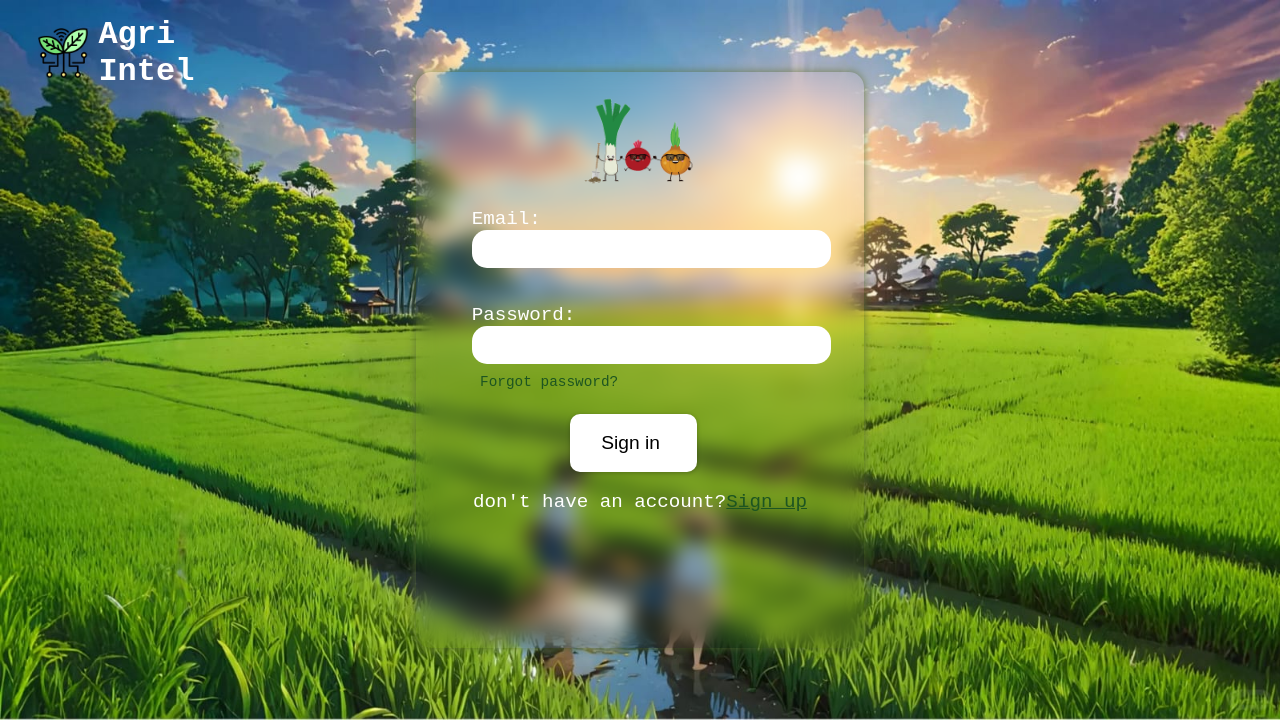
Test case: Login Component › should handle failed login
Type "fail@example.com" into the field labelled "Email:".
click(652, 249); type("fail@example.com")  # box [472,230,831,268]
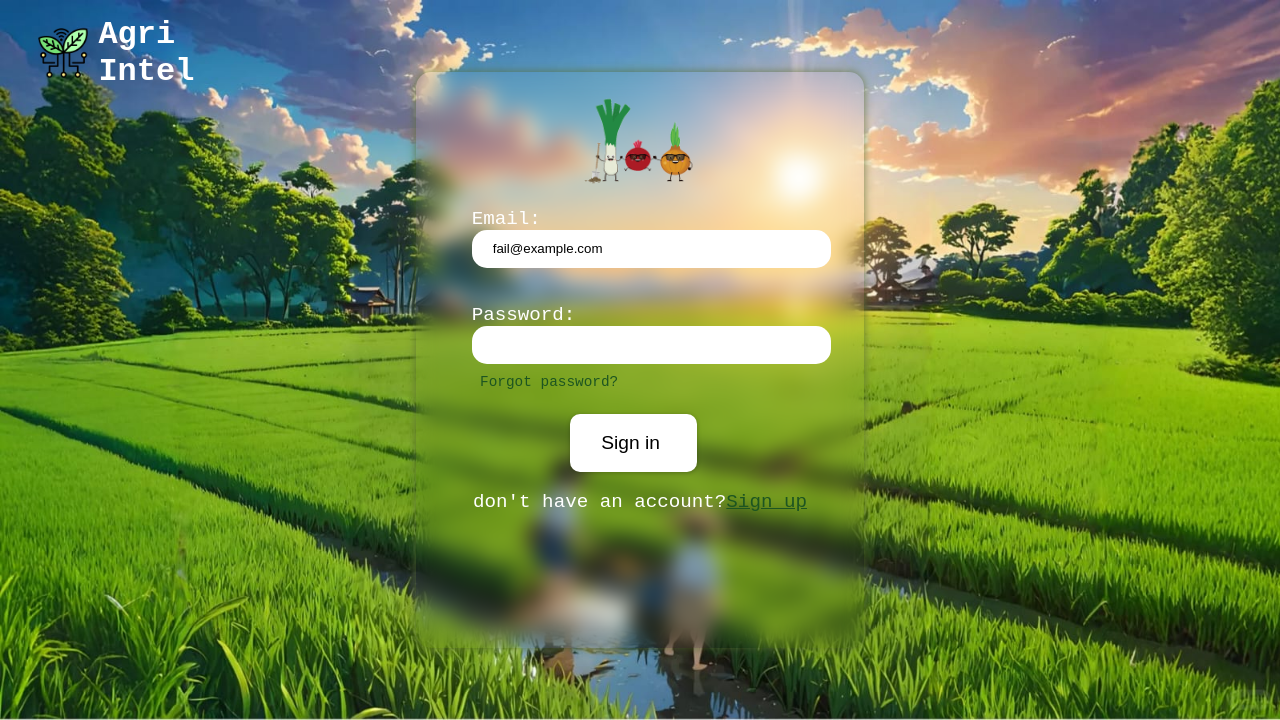
Type "WrongPassword123" into the password field labelled "Password:".
click(652, 345); type("WrongPassword123")  # box [472,326,831,364]
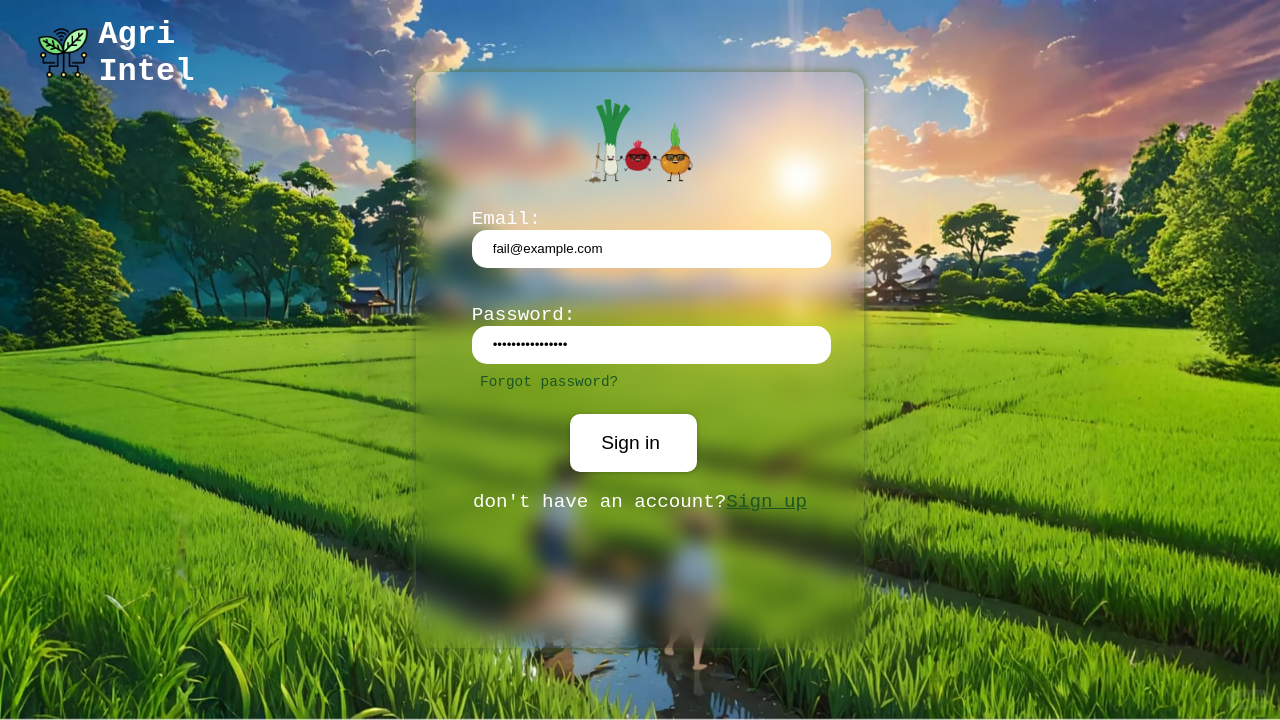
Click the button "Sign in".
click(634, 443)  # box [570,414,697,472]
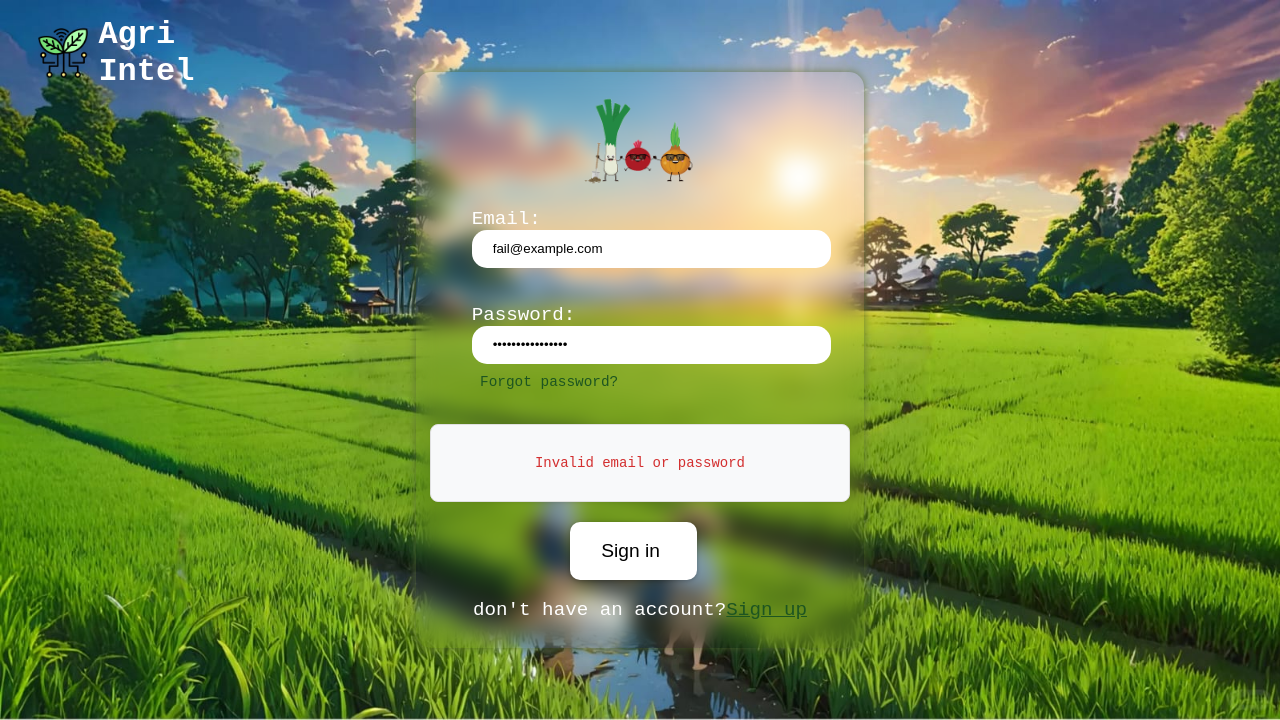
Expected: the text "Invalid email or password" is shown, [430,424,850,502]
